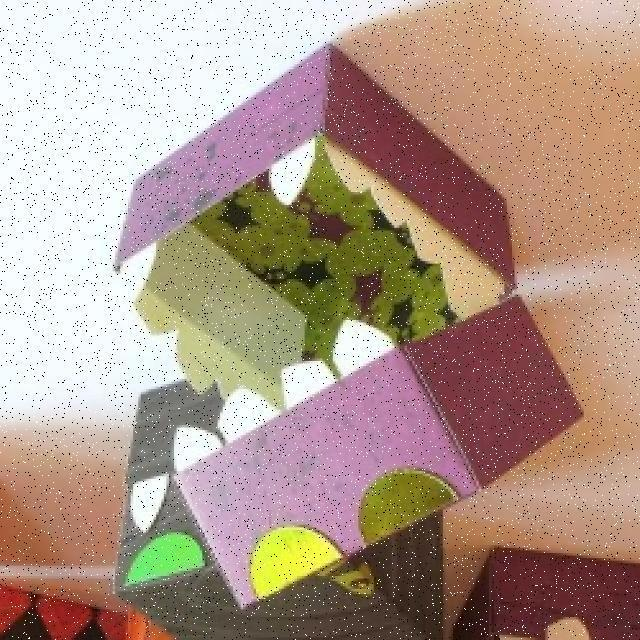box: (60, 29, 610, 590), (97, 374, 476, 640), (448, 556, 640, 640), (0, 586, 154, 640)
